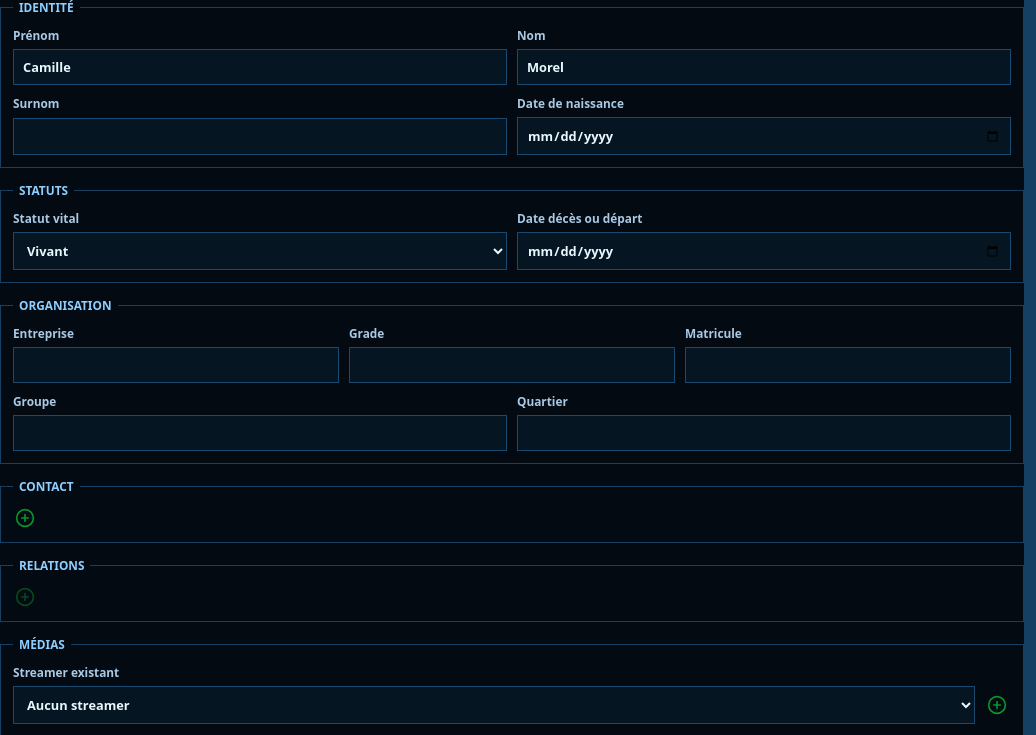
Scenario: CharacterSnapshotForm › loads the selected streamer's links into the media fields
This screenshot has width=1036, height=735.
Step 1. Select "NovaRP" in the dropdown labelled "Streamer existant" → (494, 705), box [13,686,975,724]
(page scrolled)
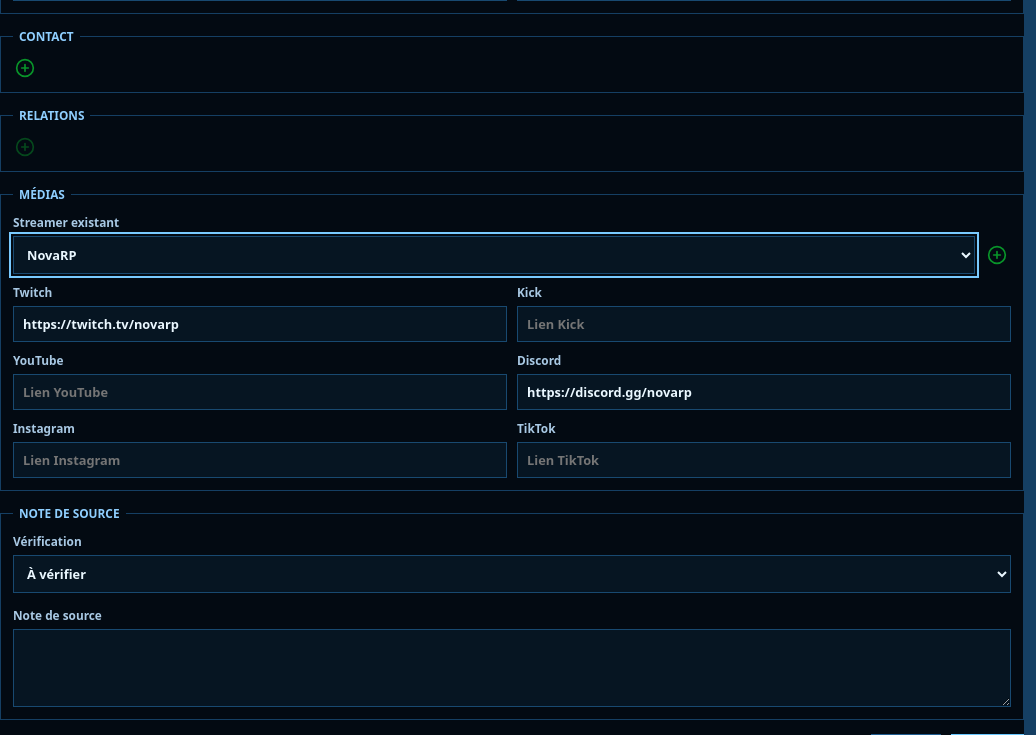
expect the field labelled "Twitch" holds "https://twitch.tv/novarp": met, box [13,306,507,342]
expect the field labelled "Discord" holds "https://discord.gg/novarp": met, box [517,374,1011,410]
expect the field labelled "Twitch" is enabled: met, box [13,306,507,342]
